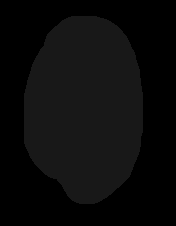fp: (31, 20, 148, 198)
